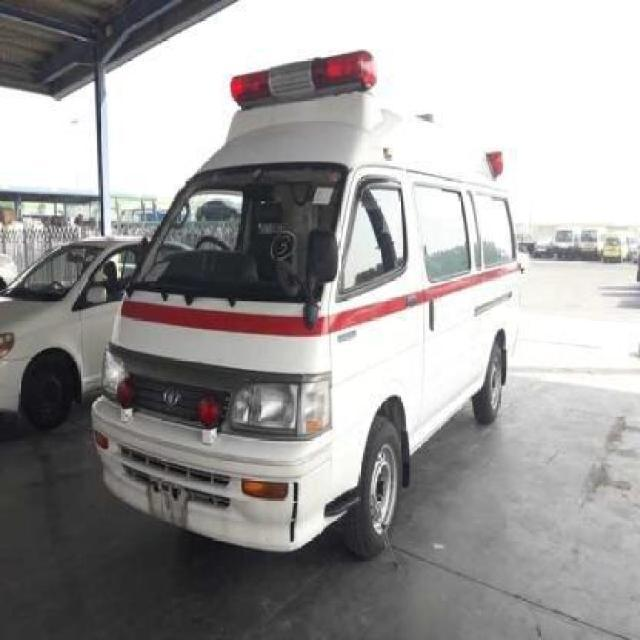emergency: (88, 48, 526, 560)
